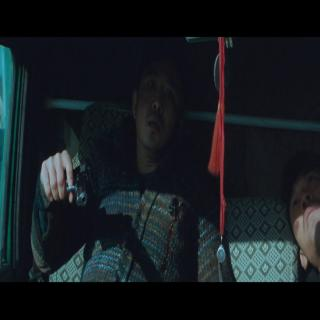gun: (44, 158, 94, 208)
